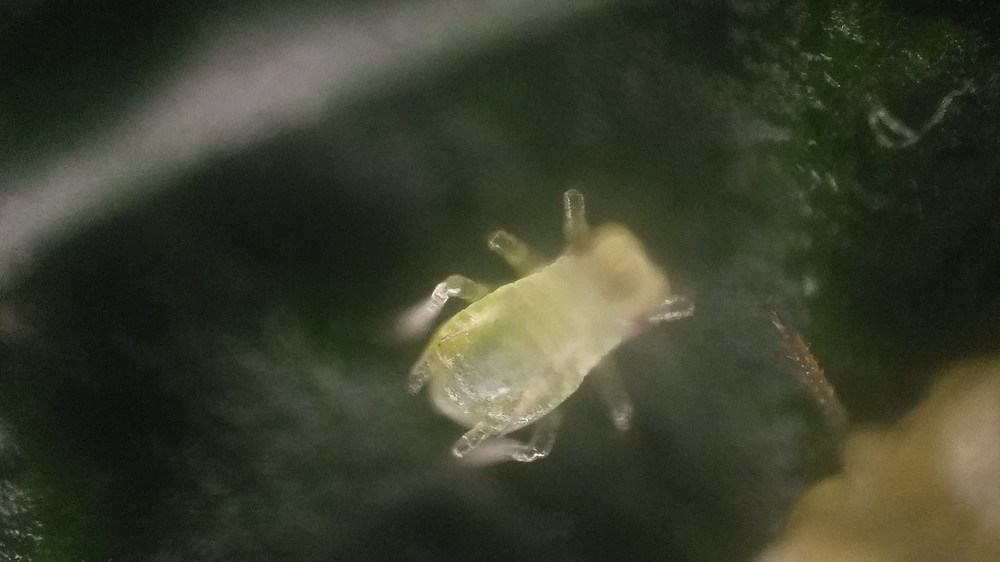Pulgon: (377, 181, 711, 497)
